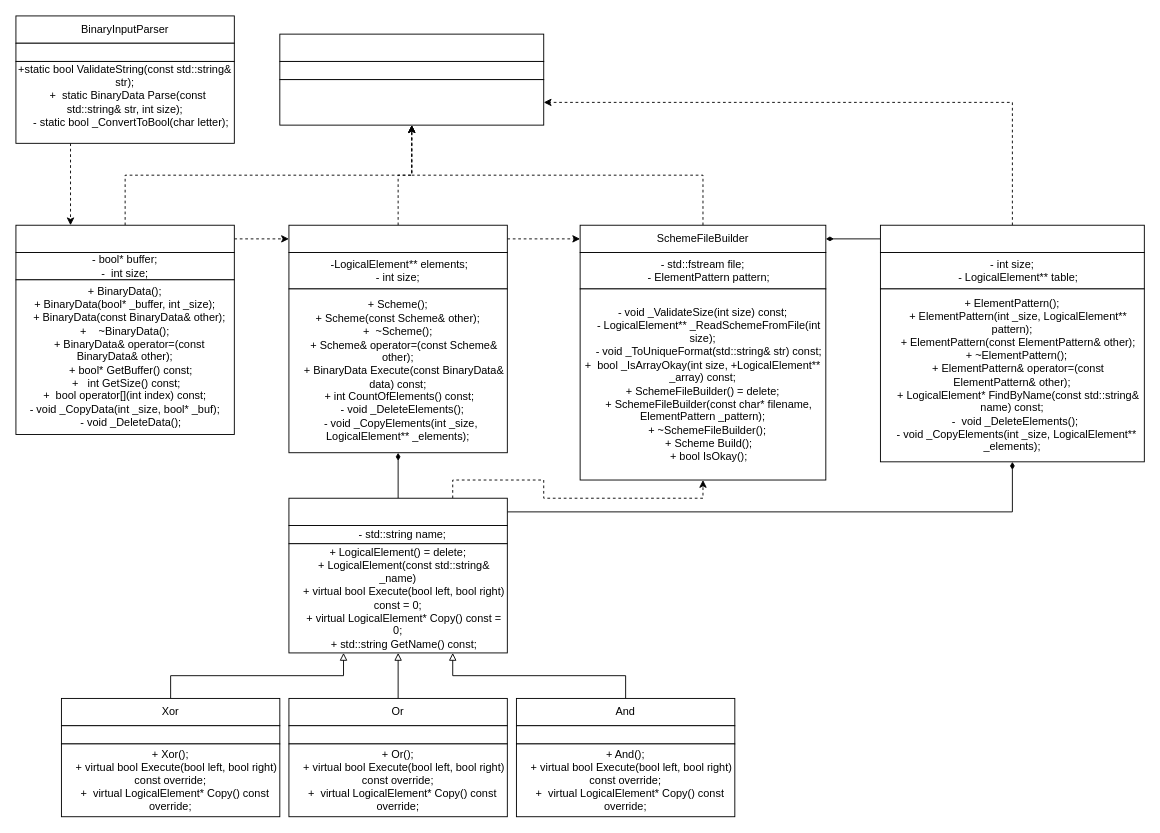
This 1160x833 diagram has some shape labels left out. Each missing label, with the box of its shape:
- ElementPattern _GetDefaultPapptern() const; + void Start() const;: (279, 79, 544, 125)
BinaryData: (15, 224, 234, 253)
ConsoleInteractor: (279, 33, 544, 61)
ElementPattern: (880, 224, 1144, 253)
LogicalElement: (288, 497, 507, 526)
Scheme: (288, 224, 507, 253)
